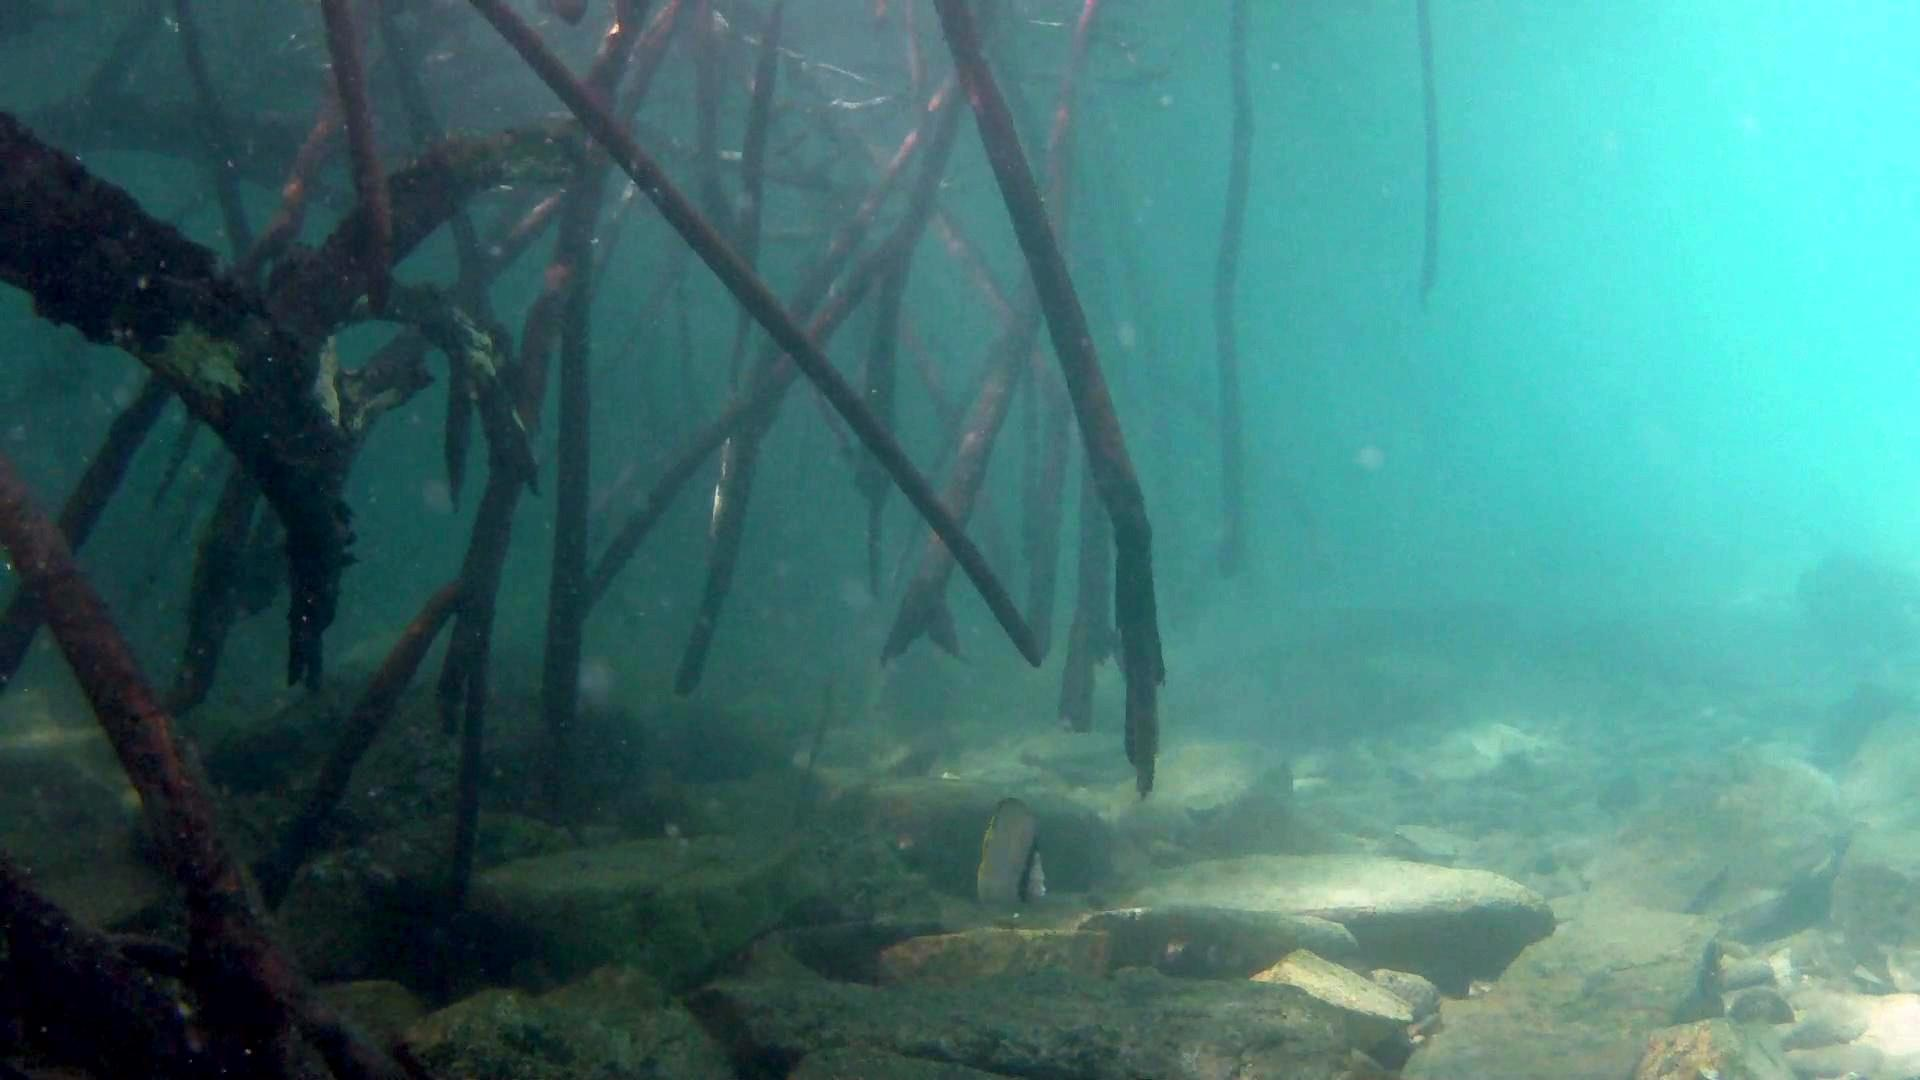chaetodon vagabundus: (973, 794, 1050, 918)
